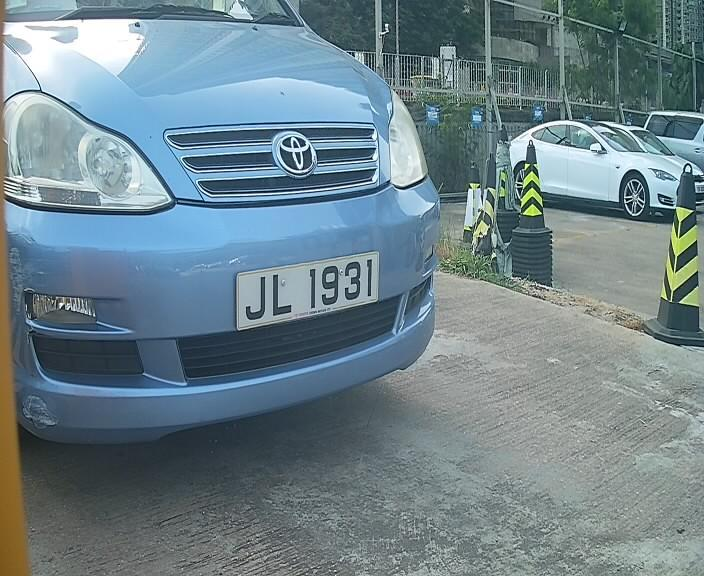privatecar: (10, 11, 463, 440)
